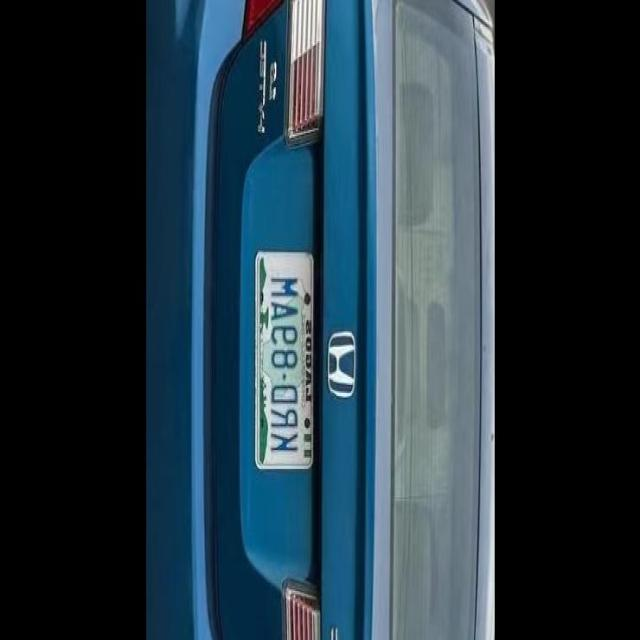Nigerian License Plate - vdataset benjamin-daria: (252, 247, 317, 474)
